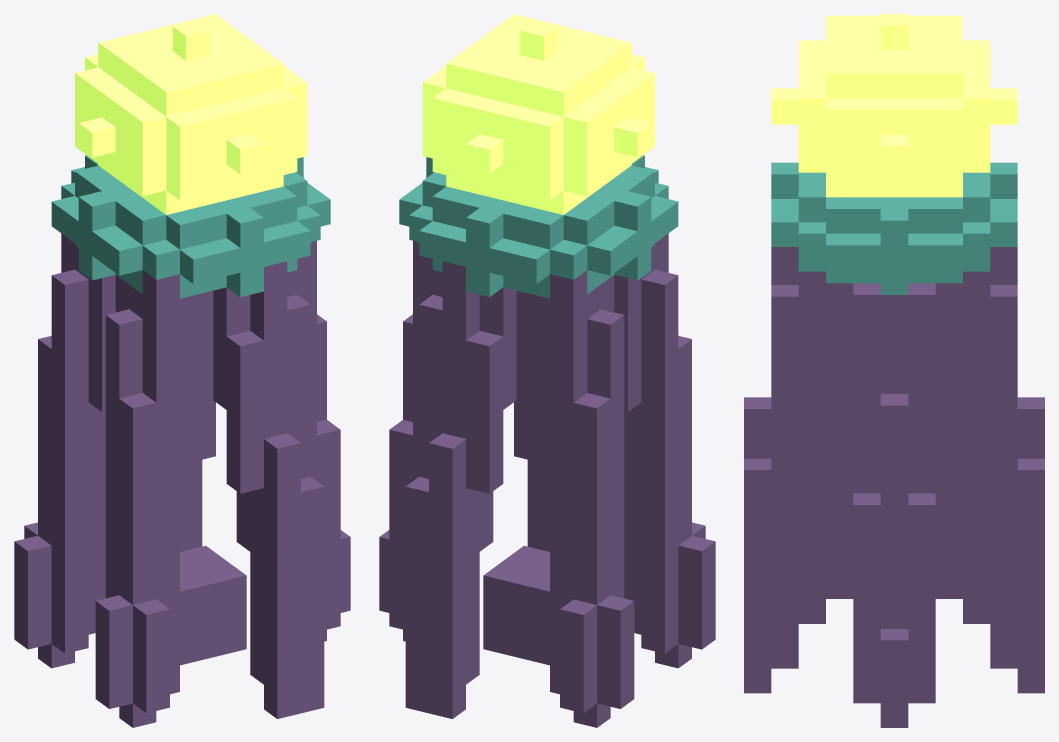
Rendered from alien-biosphere-cage-tree-ce46ee17__22678.glb.
The picture shows the model from 3 angles, left to right: view 1: azimuth 30°, elevation 25°; view 2: azimuth 150°, elevation 25°; view 3: azimuth 270°, elevation 25°; orthographic projection.
Parts seen in each view (by area): view 1: cage-tree; view 2: cage-tree; view 3: cage-tree.
Part boxes in pixels (<box>): cage-tree: <box>14,14,350,727</box>; cage-tree: <box>379,14,715,727</box>; cage-tree: <box>744,14,1044,727</box>.
Size of the model in its own units: 2.4 by 5.2 by 2.2.
